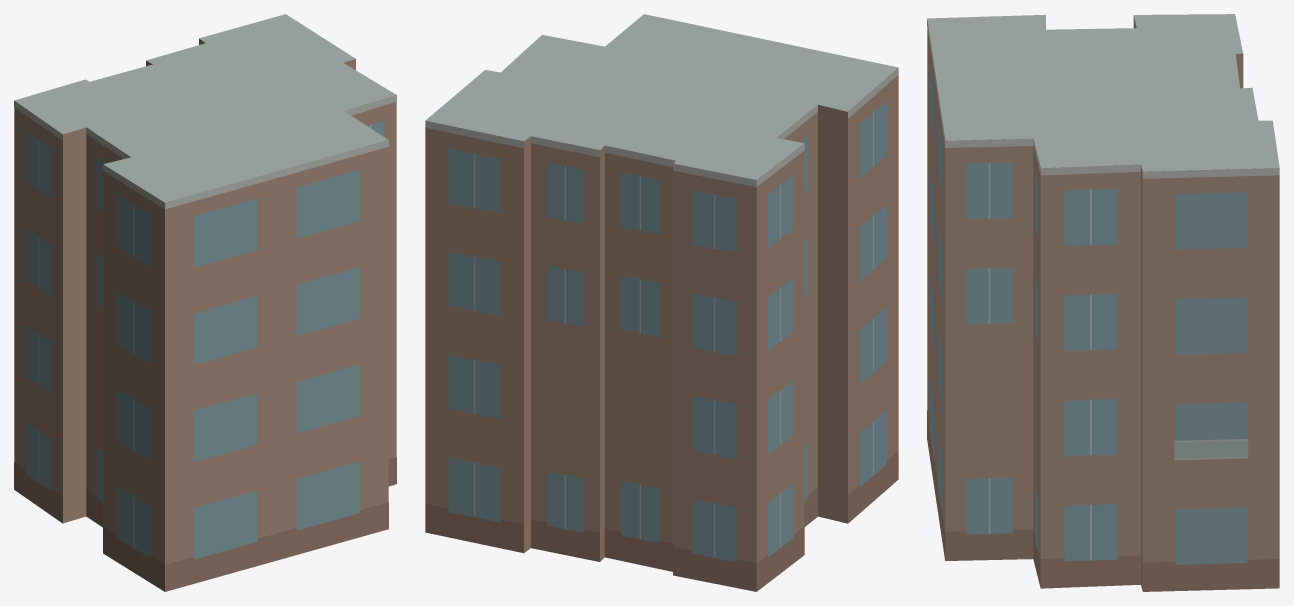
Rendered from survey-upis-32457946.glb.
3 views of the same model, side by side, from view 1: azimuth 30°, elevation 25°; view 2: azimuth 150°, elevation 25°; view 3: azimuth 270°, elevation 25° (orthographic). The views are drawn at different scales.
Parts seen in each view (by area): view 1: survey-upis-32457946.tmp; view 2: survey-upis-32457946.tmp; view 3: survey-upis-32457946.tmp.
Part boxes in pixels (<box>): survey-upis-32457946.tmp: <box>14,14,396,591</box>; survey-upis-32457946.tmp: <box>425,14,898,591</box>; survey-upis-32457946.tmp: <box>927,14,1279,591</box>.
Size of the model in its own units: 11.35 by 14.1 by 10.73.
